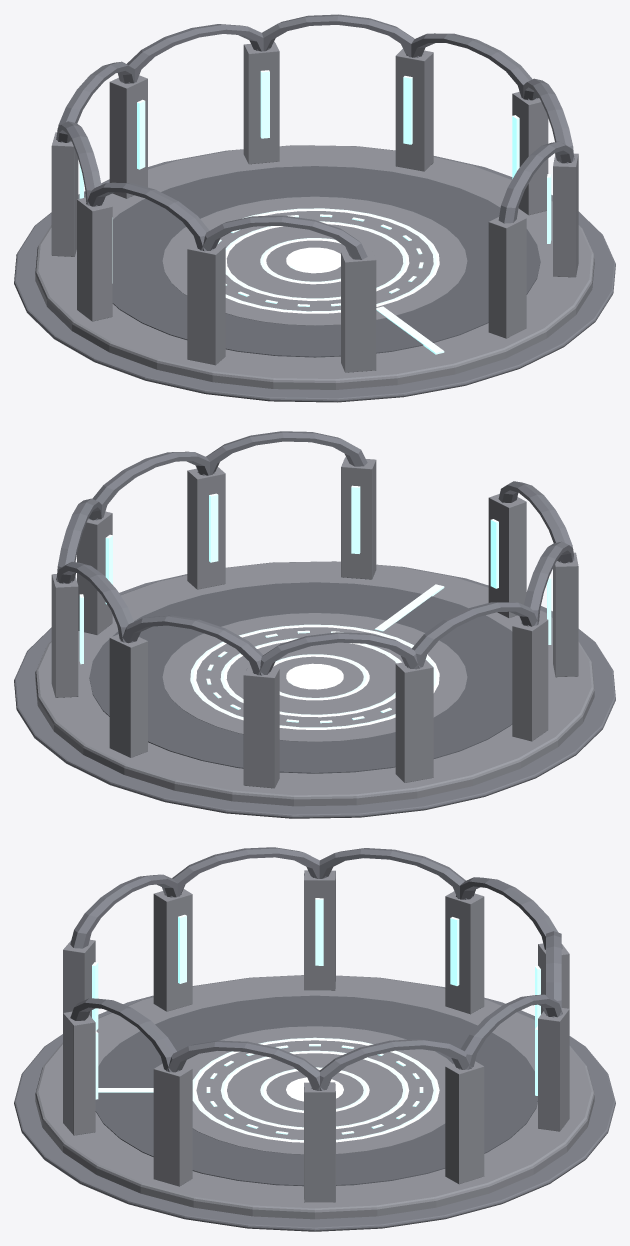
Rendered from 부화터_로우폴리.glb.
3 renders of one model, top to bottom at view 1: azimuth 30°, elevation 25°; view 2: azimuth 150°, elevation 25°; view 3: azimuth 270°, elevation 25°, orthographic.
Visible parts, largest first — view 1: plate, grooveRing, grooveInnerMask, skirt, pillar8, pillar0, pillar9, pillar7, pillar3, pillar4, pillar5, pillar6 (+19 smaller); view 2: plate, grooveRing, grooveInnerMask, skirt, pillar6, pillar4, pillar5, pillar7, pillar1, pillar0, pillar9, pillar3 (+19 smaller); view 3: plate, grooveRing, grooveInnerMask, skirt, pillar1, pillar3, pillar6, pillar8, pillar0, pillar2, pillar4, pillar7 (+17 smaller).
Part boxes in pixels (<box>): plate: <box>35,145,594,389</box>; grooveRing: <box>112,166,540,357</box>; grooveInnerMask: <box>162,196,467,325</box>; skirt: <box>14,147,615,402</box>; pillar8: <box>187,242,225,365</box>; pillar0: <box>488,215,526,338</box>; pillar9: <box>341,250,376,372</box>; pillar7: <box>77,197,112,321</box>; pillar3: <box>395,49,433,171</box>; pillar4: <box>243,41,279,164</box>; pillar5: <box>109,75,147,198</box>; pillar6: <box>51,132,78,256</box>; plate: <box>35,561,594,806</box>; grooveRing: <box>89,582,512,773</box>; grooveInnerMask: <box>162,613,467,741</box>; skirt: <box>14,562,615,818</box>; pillar6: <box>395,660,433,782</box>; pillar4: <box>109,634,147,757</box>; pillar5: <box>243,665,279,788</box>; pillar7: <box>512,617,548,741</box>; pillar1: <box>187,467,225,589</box>; pillar0: <box>341,457,376,579</box>; pillar9: <box>488,494,526,617</box>; pillar3: <box>51,574,78,697</box>; plate: <box>35,975,594,1219</box>; grooveRing: <box>95,995,537,1186</box>; grooveInnerMask: <box>184,1026,452,1154</box>; skirt: <box>14,977,615,1231</box>; pillar1: <box>153,1063,192,1186</box>; pillar3: <box>445,1061,484,1184</box>; pillar6: <box>445,891,484,1014</box>; pillar8: <box>153,889,192,1011</box>; pillar0: <box>63,1011,95,1135</box>; pillar2: <box>304,1082,335,1202</box>; pillar4: <box>538,1008,569,1131</box>; pillar7: <box>304,870,335,990</box>.
Size of the model in its own units: 1.98 by 0.5765 by 1.98.
